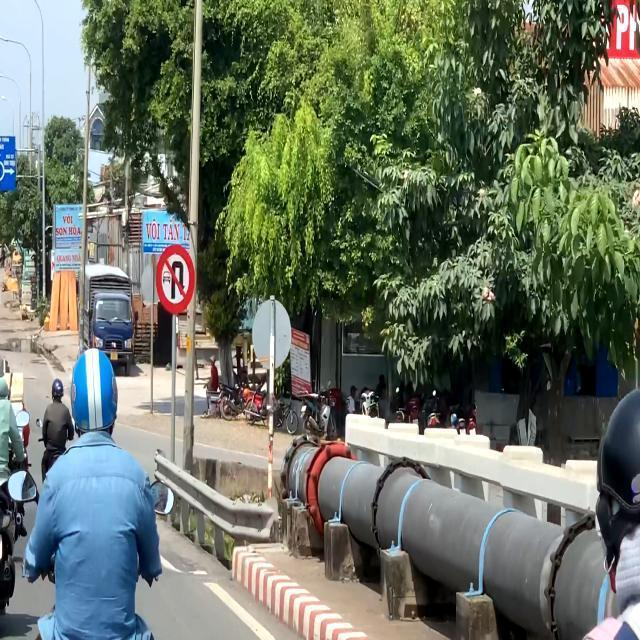124a-cam-quay-dau-xe: (154, 242, 198, 314)
